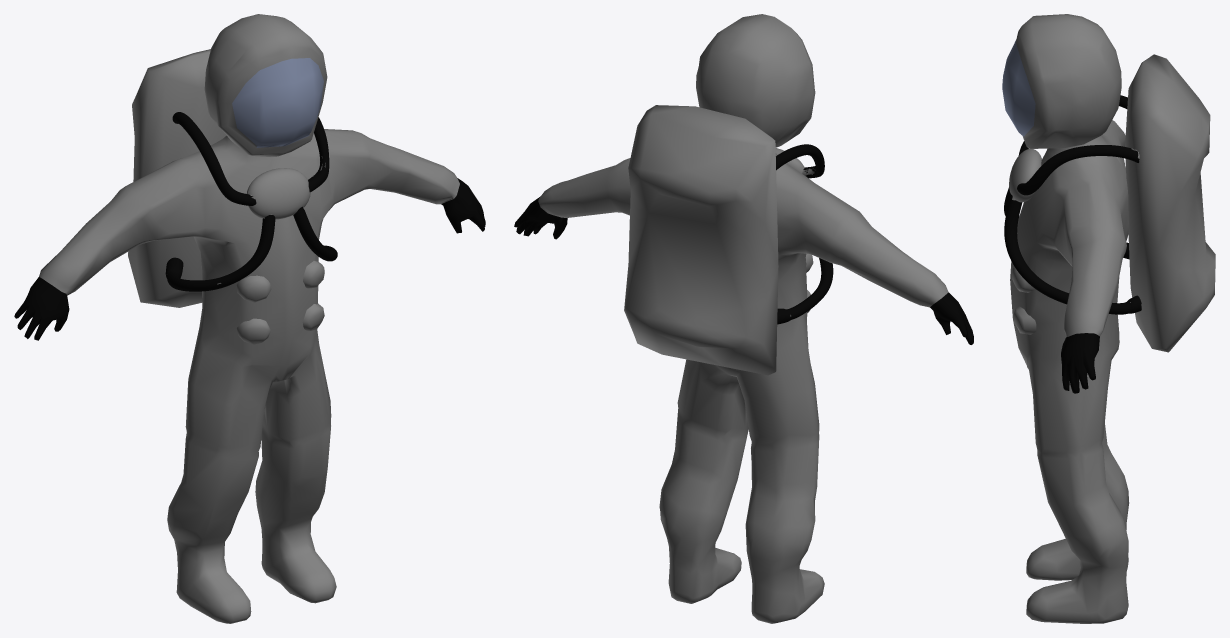
Rendered from helmet_animate.gltf.
The picture shows the model from 3 angles, left to right: view 1: azimuth 30°, elevation 25°; view 2: azimuth 150°, elevation 25°; view 3: azimuth 270°, elevation 25°; orthographic projection. The views are drawn at different scales.
Visible parts, largest first — view 1: Astronaut_mesh_1_2; view 2: Astronaut_mesh_1_2; view 3: Astronaut_mesh_1_2.
Part boxes in pixels (box(x1,y1,x2,y2)): Astronaut_mesh_1_2: box(14, 14, 485, 623); Astronaut_mesh_1_2: box(514, 14, 973, 623); Astronaut_mesh_1_2: box(1002, 14, 1215, 623).
Size of the model in its own units: 3.54 by 4.22 by 1.42.
